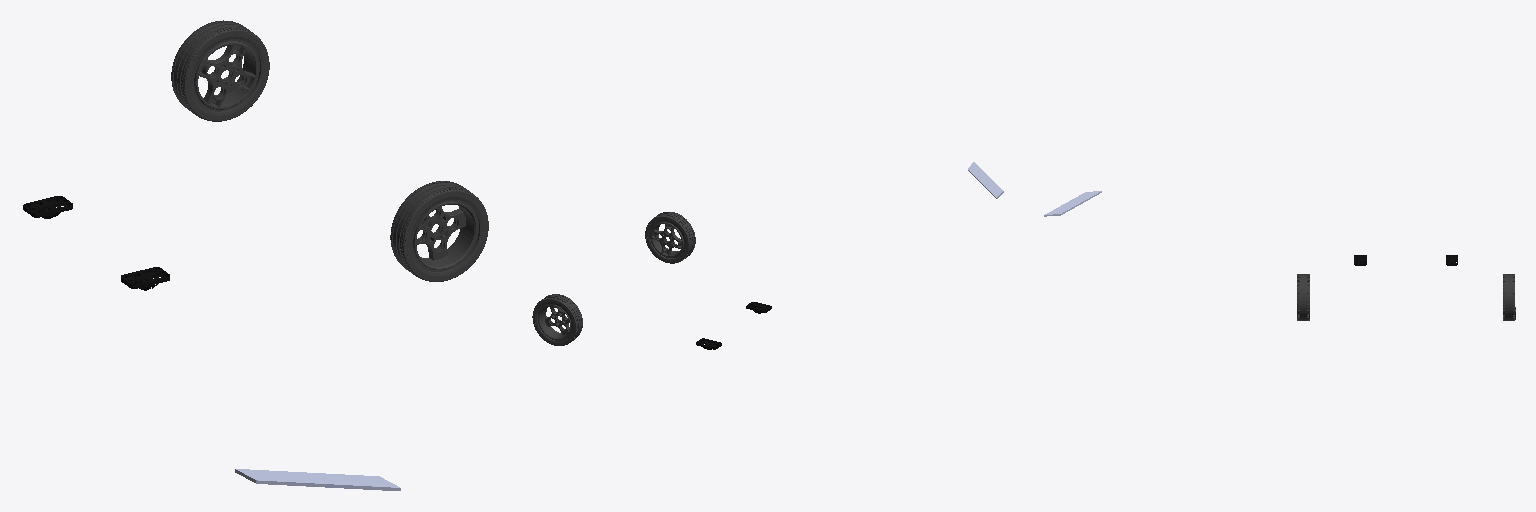
The robot description file, URDF, robot "oro_inertial":
<?xml version="1.0" encoding="utf-8"?>
<!-- This URDF was automatically created by SolidWorks to URDF Exporter! Originally created by [author] ([email redacted]) 
     Commit Version: 1.5.1-0-g916b5db  Build Version: 1.5.7152.31018
     For more information, please see http://wiki.ros.org/sw_urdf_exporter -->
<robot
  name="oro_inertial">
  <link
    name="base_footprint">
    <inertial>
      <origin
        xyz="-0.278585691762885 -0.466679102042072 0.0480195977007997"
        rpy="0 0 0" />
      <mass
        value="0.00396620122104983" />
      <inertia
        ixx="1.28199259086794E-06"
        ixy="1.48868654597721E-06"
        ixz="-7.37981957094573E-23"
        iyy="1.94183452880131E-06"
        iyz="6.74681002276512E-23"
        izz="3.21956239570296E-06" />
    </inertial>
    <visual>
      <origin
        xyz="0 0 0"
        rpy="0 0 0" />
      <geometry>
        <mesh
          filename="package://oro_inertial/meshes/base_footprint.STL" />
      </geometry>
      <material
        name="">
        <color
          rgba="0.792156862745098 0.819607843137255 0.933333333333333 1" />
      </material>
    </visual>
    <collision>
      <origin
        xyz="0 0 0"
        rpy="0 0 0" />
      <geometry>
        <mesh
          filename="package://oro_inertial/meshes/base_footprint.STL" />
      </geometry>
    </collision>
  </link>
  <link
    name="base_link">
    <inertial>
      <origin
        xyz="-0.059236 -0.00035128 0.020158"
        rpy="0 0 0" />
      <mass
        value="1.3214" />
      <inertia
        ixx="0.0013555"
        ixy="-1.9279E-07"
        ixz="5.0224E-08"
        iyy="0.00061741"
        iyz="1.2847E-06"
        izz="0.0019406" />
    </inertial>
    <visual>
      <origin
        xyz="0 0 0"
        rpy="0 0 0" />
      <geometry>
        <mesh
          filename="package://oro_inertial/meshes/base_link.STL" />
      </geometry>
      <material
        name="">
        <color
          rgba="0.75294 0.75294 0.75294 1" />
      </material>
    </visual>
    <collision>
      <origin
        xyz="0 0 0"
        rpy="0 0 0" />
      <geometry>
        <mesh
          filename="package://oro_inertial/meshes/base_link.STL" />
      </geometry>
    </collision>
  </link>
  <joint
    name="base_link_joint"
    type="fixed">
    <origin
      xyz="0 0 0.03299998167539"
      rpy="0 0 0" />
    <parent
      link="base_footprint" />
    <child
      link="base_link" />
    <axis
      xyz="0 0 0" />
  </joint>
  <link
    name="neck">
    <inertial>
      <origin
        xyz="5.10352359810728E-05 3.02250471614803E-06 0.451367324075199"
        rpy="0 0 0" />
      <mass
        value="1.10926754952808" />
      <inertia
        ixx="0.0564255773084723"
        ixy="-9.03977213538345E-10"
        ixz="-1.82951888591033E-07"
        iyy="0.0564818854150741"
        iyz="-4.18069407410363E-11"
        izz="0.000391068830002547" />
    </inertial>
    <visual>
      <origin
        xyz="0 0 0"
        rpy="0 0 0" />
      <geometry>
        <mesh
          filename="package://oro_inertial/meshes/neck.STL" />
      </geometry>
      <material
        name="">
        <color
          rgba="0.752941176470588 0.752941176470588 0.752941176470588 1" />
      </material>
    </visual>
    <collision>
      <origin
        xyz="0 0 0"
        rpy="0 0 0" />
      <geometry>
        <mesh
          filename="package://oro_inertial/meshes/neck.STL" />
      </geometry>
    </collision>
  </link>
  <joint
    name="neck_joint"
    type="fixed">
    <origin
      xyz="-0.064 0 0.06825"
      rpy="0 0 0" />
    <parent
      link="base_link" />
    <child
      link="neck" />
    <axis
      xyz="0 0 0" />
  </joint>
  <link
    name="pan">
    <inertial>
      <origin
        xyz="-2.50155840103225E-05 -3.0785833111849E-05 0.0205898386906644"
        rpy="0 0 0" />
      <mass
        value="0.0446711229185335" />
      <inertia
        ixx="1.24180241554179E-05"
        ixy="-4.29119054508693E-13"
        ixz="2.44763767130923E-09"
        iyy="1.04151202907413E-05"
        iyz="-1.82749851584174E-07"
        izz="7.78082243124466E-06" />
    </inertial>
    <visual>
      <origin
        xyz="0 0 0"
        rpy="0 0 0" />
      <geometry>
        <mesh
          filename="package://oro_inertial/meshes/pan.STL" />
      </geometry>
      <material
        name="">
        <color
          rgba="0.752941176470588 0.752941176470588 0.752941176470588 1" />
      </material>
    </visual>
    <collision>
      <origin
        xyz="0 0 0"
        rpy="0 0 0" />
      <geometry>
        <mesh
          filename="package://oro_inertial/meshes/pan.STL" />
      </geometry>
    </collision>
  </link>
  <joint
    name="pan_joint"
    type="continuous">
    <origin
      xyz="0.01275 2.54E-05 0.98748"
      rpy="0 0 3.1416" />
    <parent
      link="neck" />
    <child
      link="pan" />
    <axis
      xyz="0 0 1" />
  </joint>
  <link
    name="tilt">
    <inertial>
      <origin
        xyz="0.00118385527699939 0.0139616359862273 -0.0783421837132381"
        rpy="0 0 0" />
      <mass
        value="0.190333592129278" />
      <inertia
        ixx="0.000184137194903989"
        ixy="-1.52842480239196E-06"
        ixz="6.62804385986578E-08"
        iyy="0.000483856390372872"
        iyz="5.06450642269202E-08"
        izz="0.000309913696954649" />
    </inertial>
    <visual>
      <origin
        xyz="0 0 0"
        rpy="0 0 0" />
      <geometry>
        <mesh
          filename="package://oro_inertial/meshes/tilt.STL" />
      </geometry>
      <material
        name="">
        <color
          rgba="0.894117647058823 0.913725490196078 0.929411764705882 1" />
      </material>
    </visual>
    <collision>
      <origin
        xyz="0 0 0"
        rpy="0 0 0" />
      <geometry>
        <mesh
          filename="package://oro_inertial/meshes/tilt.STL" />
      </geometry>
    </collision>
  </link>
  <joint
    name="tilt_joint"
    type="continuous">
    <origin
      xyz="-0.00025 0 0.04092"
      rpy="3.1416 0 -1.5708" />
    <parent
      link="pan" />
    <child
      link="tilt" />
    <axis
      xyz="1 0 0" />
  </joint>
  <link
    name="depth_cam">
    <inertial>
      <origin
        xyz="1.5761E-05 4.4645E-10 4.4108E-06"
        rpy="0 0 0" />
      <mass
        value="0.15313" />
      <inertia
        ixx="0.00037585"
        ixy="1.2914E-13"
        ixz="-2.2676E-09"
        iyy="2.2936E-05"
        iyz="1.9863E-12"
        izz="0.00037793" />
    </inertial>
    <visual>
      <origin
        xyz="0 0 0"
        rpy="0 0 0" />
      <geometry>
        <mesh
          filename="package://oro_inertial/meshes/depth_cam.STL" />
      </geometry>
      <material
        name="">
        <color
          rgba="0.79216 0.81961 0.93333 1" />
      </material>
    </visual>
    <collision>
      <origin
        xyz="0 0 0"
        rpy="0 0 0" />
      <geometry>
        <mesh
          filename="package://oro_inertial/meshes/depth_cam.STL" />
      </geometry>
    </collision>
  </link>
  <joint
    name="depth_cam_joint"
    type="continuous">
    <origin
      xyz="0 -0.00146986251421883 -0.14957997"
      rpy="3.14159265358979 0 1.5707963267949" />
    <parent
      link="tilt" />
    <child
      link="depth_cam" />
    <axis
      xyz="0 1 0" />
  </joint>
  <link
    name="base_scan">
    <inertial>
      <origin
        xyz="-0.00862865863959544 -1.73967868891075E-05 0.000140843030897758"
        rpy="0 0 0" />
      <mass
        value="0.0530538694104072" />
      <inertia
        ixx="1.81416003681575E-05"
        ixy="2.62458054720224E-08"
        ixz="-4.99055692614564E-06"
        iyy="3.57220957812171E-05"
        iyz="1.92490809961388E-08"
        izz="4.46011025061381E-05" />
    </inertial>
    <visual>
      <origin
        xyz="0 0 0"
        rpy="0 0 0" />
      <geometry>
        <mesh
          filename="package://oro_inertial/meshes/base_scan.STL" />
      </geometry>
      <material
        name="">
        <color
          rgba="0.792156862745098 0.819607843137255 0.933333333333333 1" />
      </material>
    </visual>
    <collision>
      <origin
        xyz="0 0 0"
        rpy="0 0 0" />
      <geometry>
        <mesh
          filename="package://oro_inertial/meshes/base_scan.STL" />
      </geometry>
    </collision>
  </link>
  <joint
    name="scan_joint"
    type="fixed">
    <origin
      xyz="0.051435 0 0.08795"
      rpy="0 0 0" />
    <parent
      link="base_link" />
    <child
      link="base_scan" />
    <axis
      xyz="0 0 0" />
  </joint>
  <link
    name="wheel_right_link">
    <inertial>
      <origin
        xyz="-0.0577959024723893 -0.164720891612344 -0.201308502278482"
        rpy="0 0 0" />
      <mass
        value="5.58292770809024" />
      <inertia
        ixx="0.792771487456648"
        ixy="0.000179059503237664"
        ixz="0.00254861613372677"
        iyy="0.772803280888675"
        iyz="0.0299232164799445"
        izz="0.0643045890784704" />
    </inertial>
    <visual>
      <origin
        xyz="0 0 0"
        rpy="0 0 0" />
      <geometry>
        <mesh
          filename="package://oro_inertial/meshes/wheel_right_link.STL" />
      </geometry>
      <material
        name="">
        <color
          rgba="0.298039215686275 0.298039215686275 0.298039215686275 1" />
      </material>
    </visual>
    <collision>
      <origin
        xyz="0 0 0"
        rpy="0 0 0" />
      <geometry>
        <mesh
          filename="package://oro_inertial/meshes/wheel_right_link.STL" />
      </geometry>
    </collision>
  </link>
  <joint
    name="wheel_right_joint"
    type="continuous">
    <origin
      xyz="0 -0.134895987873404 0"
      rpy="3.14159265358979 0 0" />
    <parent
      link="base_link" />
    <child
      link="wheel_right_link" />
    <axis
      xyz="0 1 0" />
  </joint>
  <link
    name="wheel_left_link">
    <inertial>
      <origin
        xyz="-0.0577959024723887 -0.105071084134463 0.201308502278483"
        rpy="0 0 0" />
      <mass
        value="5.58292770809024" />
      <inertia
        ixx="0.792771487456648"
        ixy="-0.000179059503237581"
        ixz="-0.00254861613372879"
        iyy="0.772803280888676"
        iyz="0.0299232164799445"
        izz="0.0643045890784704" />
    </inertial>
    <visual>
      <origin
        xyz="0 0 0"
        rpy="0 0 0" />
      <geometry>
        <mesh
          filename="package://oro_inertial/meshes/wheel_left_link.STL" />
      </geometry>
      <material
        name="">
        <color
          rgba="0.298039215686275 0.298039215686275 0.298039215686275 1" />
      </material>
    </visual>
    <collision>
      <origin
        xyz="0 0 0"
        rpy="0 0 0" />
      <geometry>
        <mesh
          filename="package://oro_inertial/meshes/wheel_left_link.STL" />
      </geometry>
    </collision>
  </link>
  <joint
    name="wheel_left_joint"
    type="continuous">
    <origin
      xyz="0 0.134895987873403 0"
      rpy="0 0 0" />
    <parent
      link="base_link" />
    <child
      link="wheel_left_link" />
    <axis
      xyz="0 1 0" />
  </joint>
  <link
    name="castor_back_right_link">
    <inertial>
      <origin
        xyz="0.119204097527611 -0.0341750962610596 0.224558502278483"
        rpy="0 0 0" />
      <mass
        value="5.58292770809024" />
      <inertia
        ixx="0.792771487456648"
        ixy="-0.000179059503237581"
        ixz="-0.00254861613372879"
        iyy="0.772803280888676"
        iyz="0.0299232164799446"
        izz="0.0643045890784704" />
    </inertial>
    <visual>
      <origin
        xyz="0 0 0"
        rpy="0 0 0" />
      <geometry>
        <mesh
          filename="package://oro_inertial/meshes/castor_back_right_link.STL" />
      </geometry>
      <material
        name="">
        <color
          rgba="0.101960784313725 0.101960784313725 0.101960784313725 1" />
      </material>
    </visual>
    <collision>
      <origin
        xyz="0 0 0"
        rpy="0 0 0" />
      <geometry>
        <mesh
          filename="package://oro_inertial/meshes/castor_back_right_link.STL" />
      </geometry>
    </collision>
  </link>
  <joint
    name="castor_back_right_joint"
    type="fixed">
    <origin
      xyz="-0.177 0.064 -0.02325"
      rpy="0 0 0" />
    <parent
      link="base_link" />
    <child
      link="castor_back_right_link" />
    <axis
      xyz="0 0 0" />
  </joint>
  <link
    name="castor_back_left_link">
    <inertial>
      <origin
        xyz="0.119204097527611 -0.0341750962610596 0.224558502278483"
        rpy="0 0 0" />
      <mass
        value="5.58292770809024" />
      <inertia
        ixx="0.792771487456648"
        ixy="-0.000179059503237581"
        ixz="-0.00254861613372879"
        iyy="0.772803280888676"
        iyz="0.0299232164799445"
        izz="0.0643045890784704" />
    </inertial>
    <visual>
      <origin
        xyz="0 0 0"
        rpy="0 0 0" />
      <geometry>
        <mesh
          filename="package://oro_inertial/meshes/castor_back_left_link.STL" />
      </geometry>
      <material
        name="">
        <color
          rgba="0.101960784313725 0.101960784313725 0.101960784313725 1" />
      </material>
    </visual>
    <collision>
      <origin
        xyz="0 0 0"
        rpy="0 0 0" />
      <geometry>
        <mesh
          filename="package://oro_inertial/meshes/castor_back_left_link.STL" />
      </geometry>
    </collision>
  </link>
  <joint
    name="castor_back_left_joint"
    type="fixed">
    <origin
      xyz="-0.177 0.064 -0.02325"
      rpy="0 0 0" />
    <parent
      link="base_link" />
    <child
      link="castor_back_left_link" />
    <axis
      xyz="0 0 0" />
  </joint>
</robot>

--- What the picture shows (computed from the rendered views, not written in the file) ---
The picture shows the robot from 3 angles, left to right: view 1: azimuth 30°, elevation 25°; view 2: azimuth 150°, elevation 25°; view 3: azimuth 270°, elevation 25°; orthographic projection.
Robot: oro_inertial — 11 links, 10 joints (5 continuous, 5 fixed); root link base_footprint; default pose: all joints at 0.
Visible links, largest first — view 1: wheel_left_link, wheel_right_link, base_footprint, castor_back_left_link, castor_back_right_link; view 2: wheel_left_link, wheel_right_link; view 3: wheel_right_link, wheel_left_link.
Link boxes in pixels (box(x1,y1,x2,y2)): wheel_left_link: box(171, 20, 269, 121); wheel_right_link: box(390, 181, 488, 281); base_footprint: box(235, 469, 400, 490); castor_back_left_link: box(23, 196, 72, 218); castor_back_right_link: box(121, 267, 169, 290); wheel_left_link: box(532, 294, 582, 345); wheel_right_link: box(645, 212, 695, 263); wheel_right_link: box(1297, 274, 1309, 320); wheel_left_link: box(1503, 274, 1515, 320).
Size in the robot's own frame: 0.3515 by 0.6601 by 0.0664 metres.
5 mesh visuals loaded from 11 distinct referenced files (5 binary STL); not drawn: 6 (reference not matched to a file when rendering).